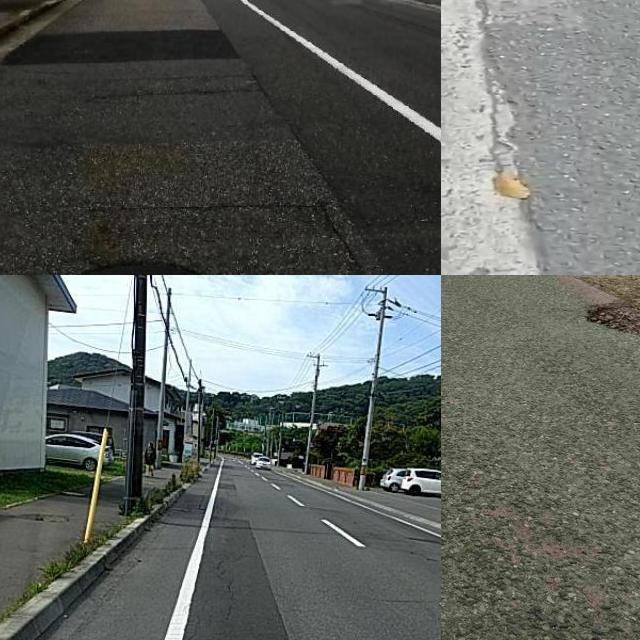Pinggir: (571, 286, 640, 343)
Sambungan: (202, 0, 441, 275), (441, 0, 542, 275), (183, 518, 291, 640), (6, 27, 239, 62)
